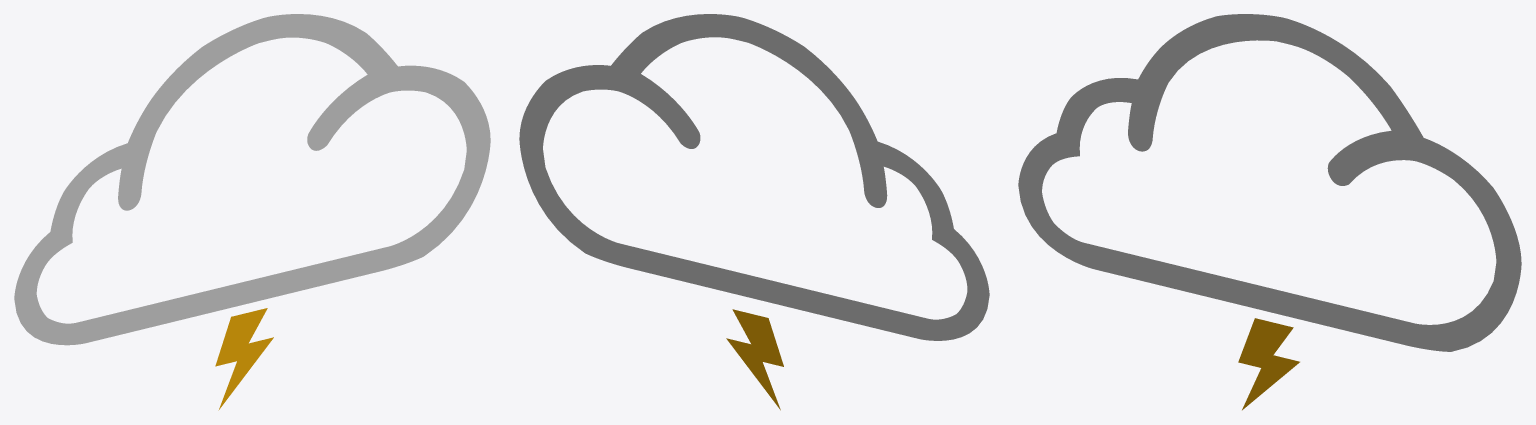
3 renders of one model, left to right at view 1: azimuth 30°, elevation 25°; view 2: azimuth 150°, elevation 25°; view 3: azimuth 330°, elevation 25°, orthographic. The views are drawn at different scales.
Parts seen in each view (by area): view 1: Cloud, Thunder; view 2: Cloud, Thunder; view 3: Cloud, Thunder.
Part boxes in pixels (bbox=[...]): Cloud: bbox=[14, 14, 490, 345]; Thunder: bbox=[215, 308, 273, 410]; Cloud: bbox=[519, 14, 989, 340]; Thunder: bbox=[726, 309, 783, 410]; Cloud: bbox=[1018, 14, 1521, 351]; Thunder: bbox=[1238, 318, 1299, 410].
Bounding box in the file's own units: 0.6611 × 0.5112 × 0.00853.
